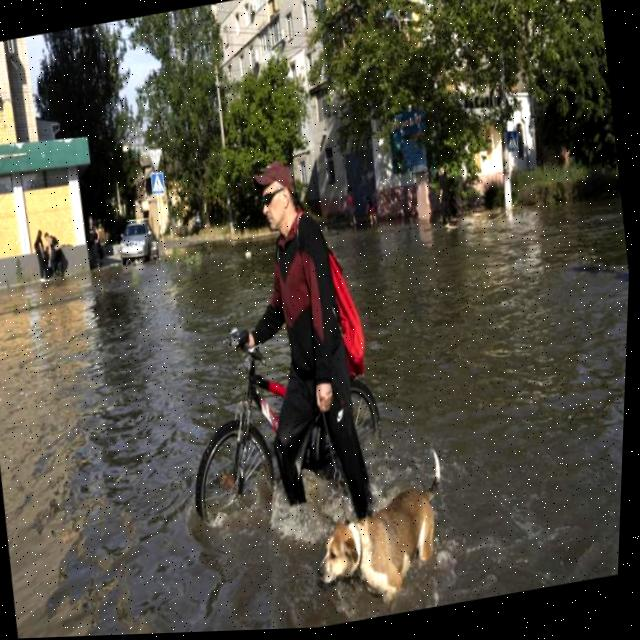civilian: (196, 132, 425, 532), (40, 220, 78, 280), (25, 221, 58, 285)
dog: (294, 433, 474, 619)
